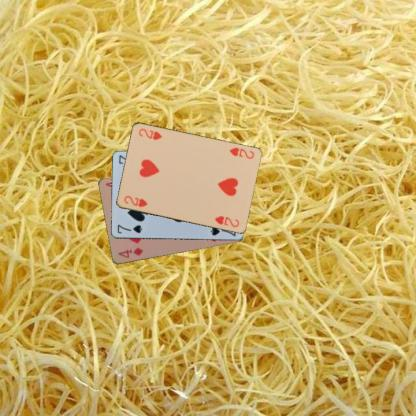2h: (226, 145, 255, 160), (122, 193, 148, 209)
4d: (115, 245, 144, 259)
7s: (115, 222, 143, 234)
